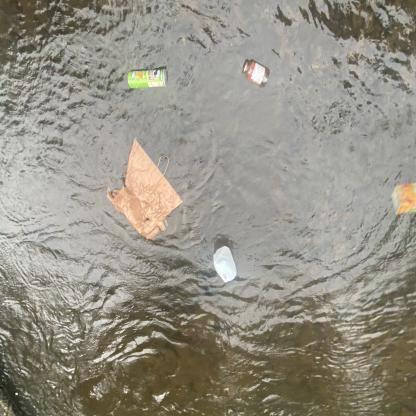Glass: (240, 57, 271, 90)
Metal: (124, 64, 171, 90)
Plastic: (208, 243, 241, 286)
Trash: (105, 134, 187, 246)
